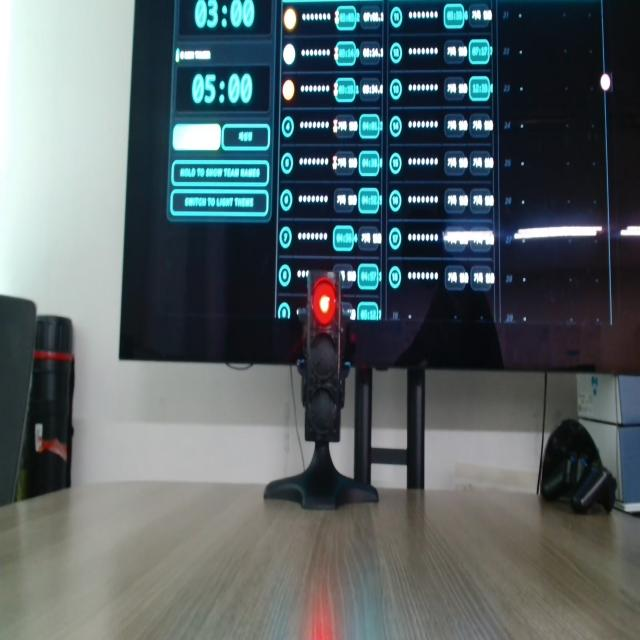red_light: (313, 278, 336, 325)
